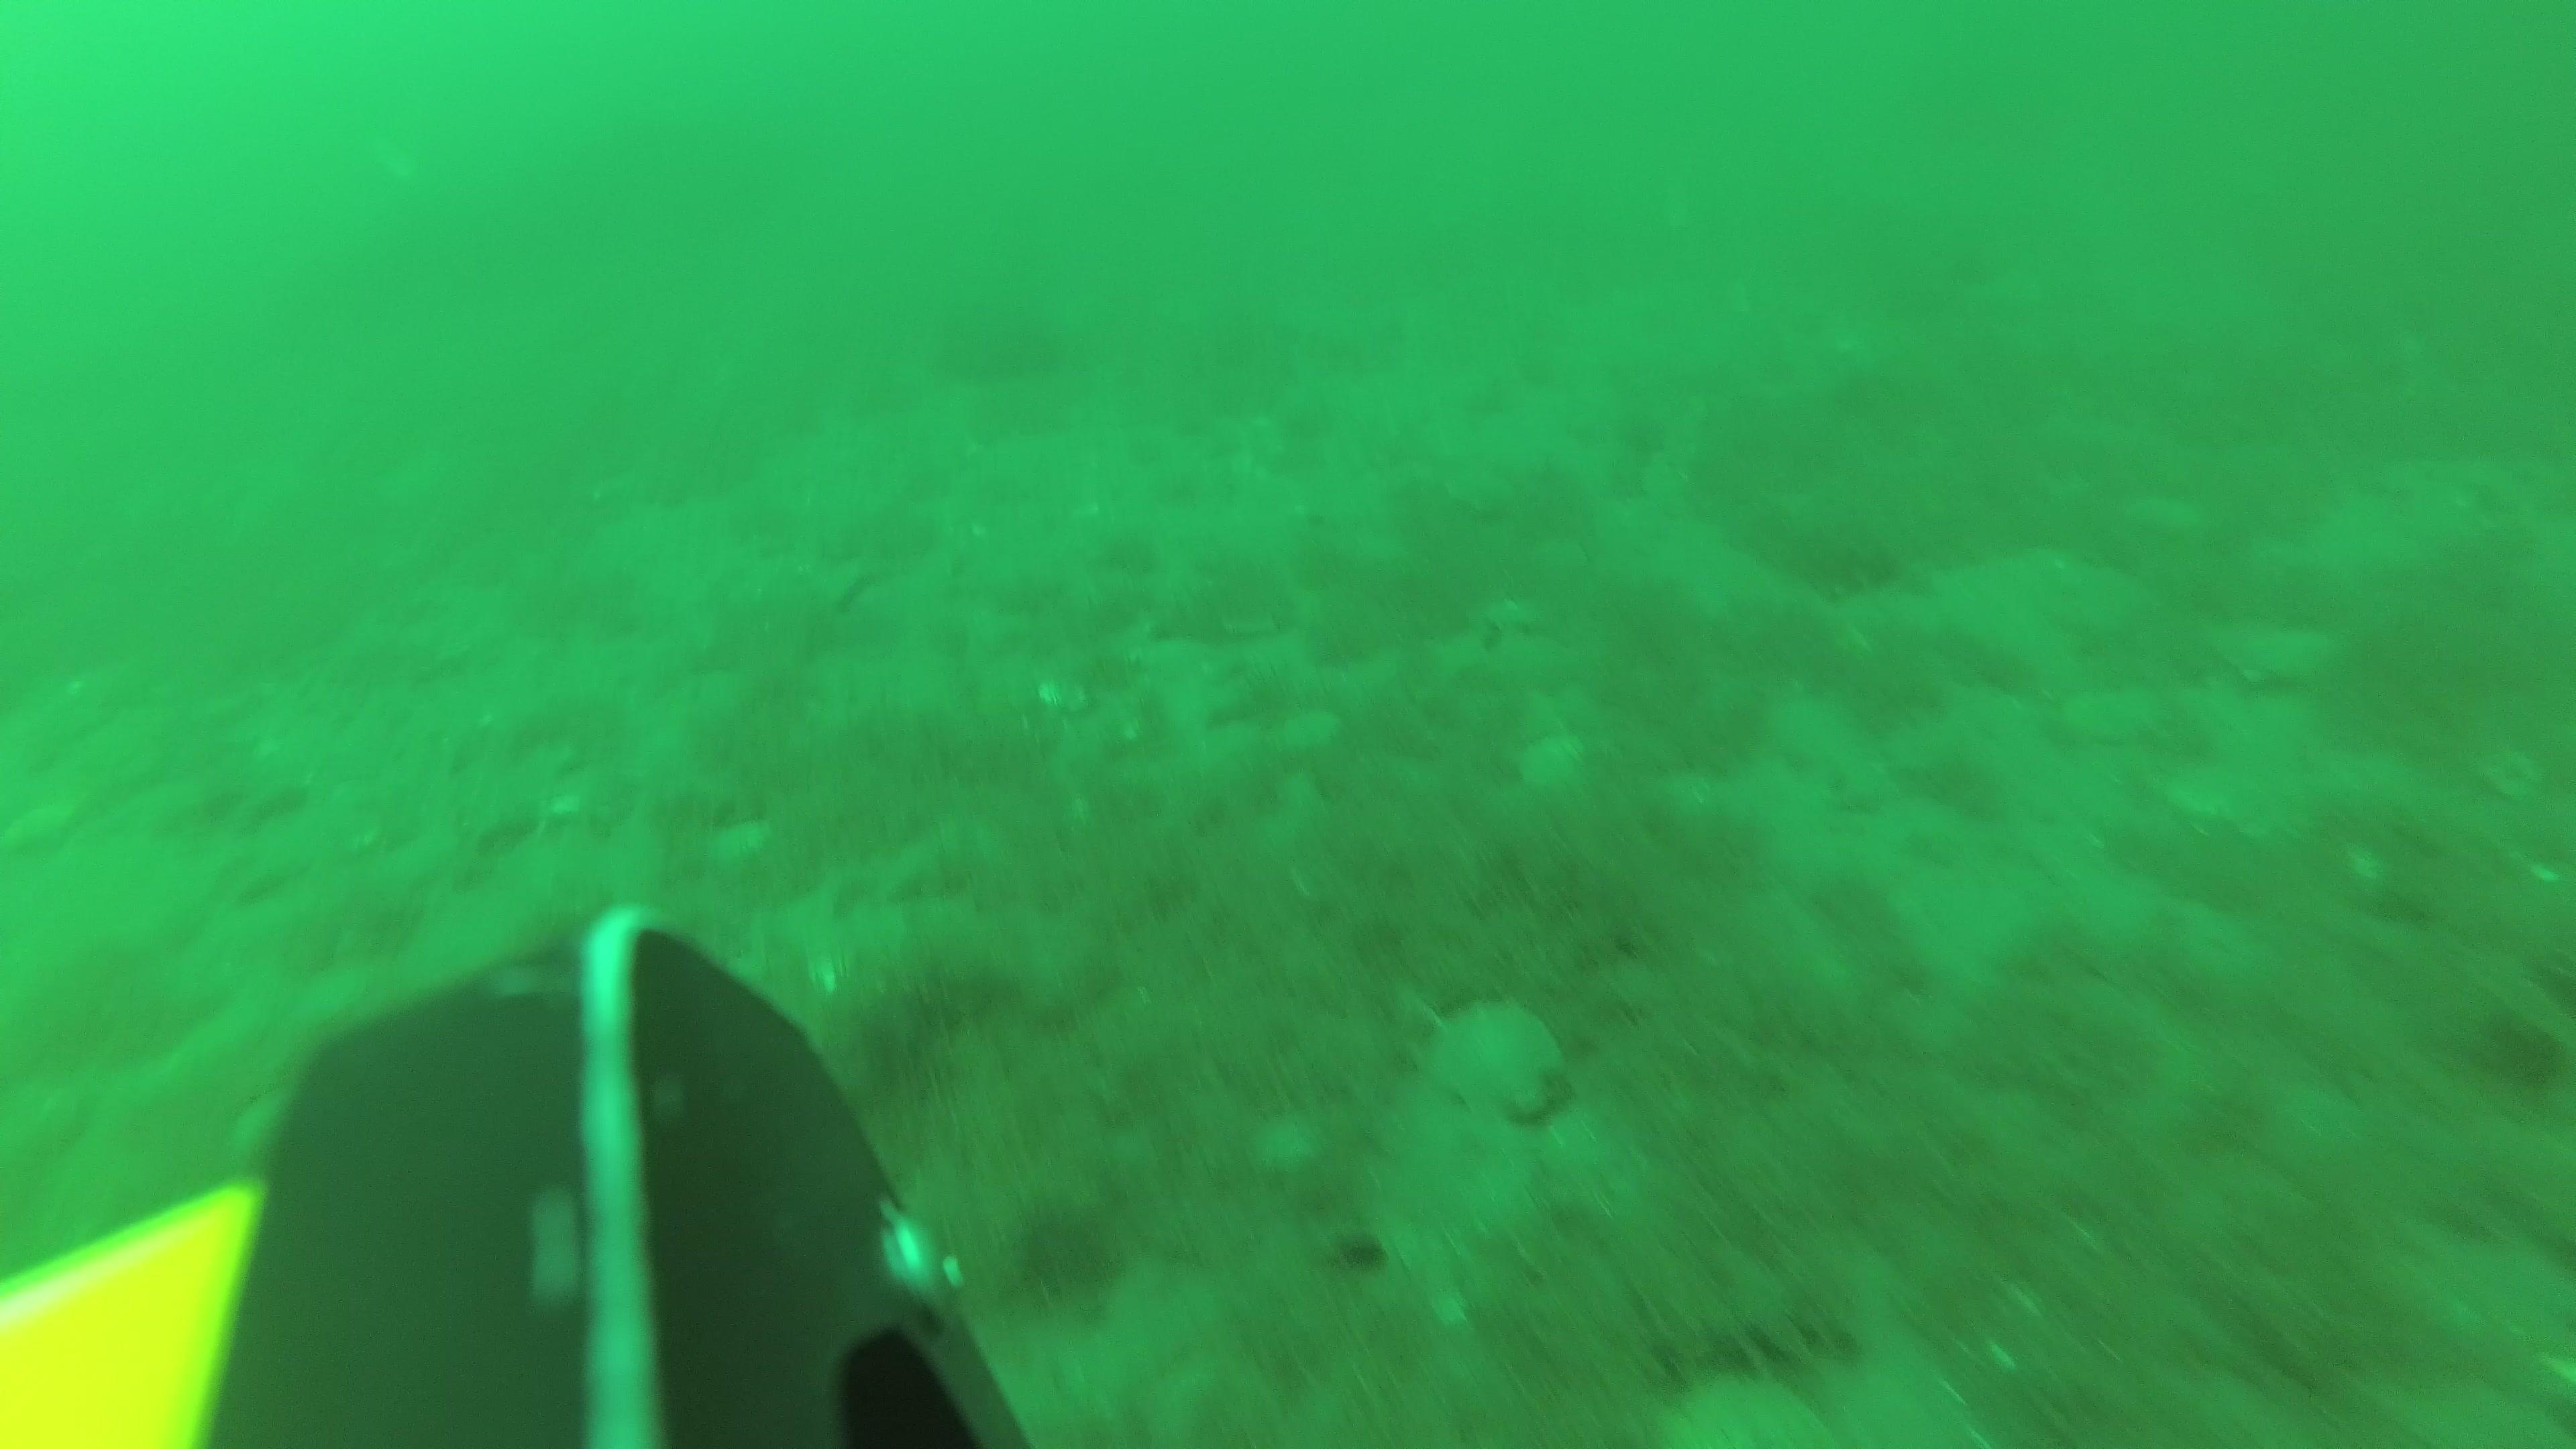scallop: (1424, 991, 1575, 1132), (1249, 1115, 1322, 1180)
